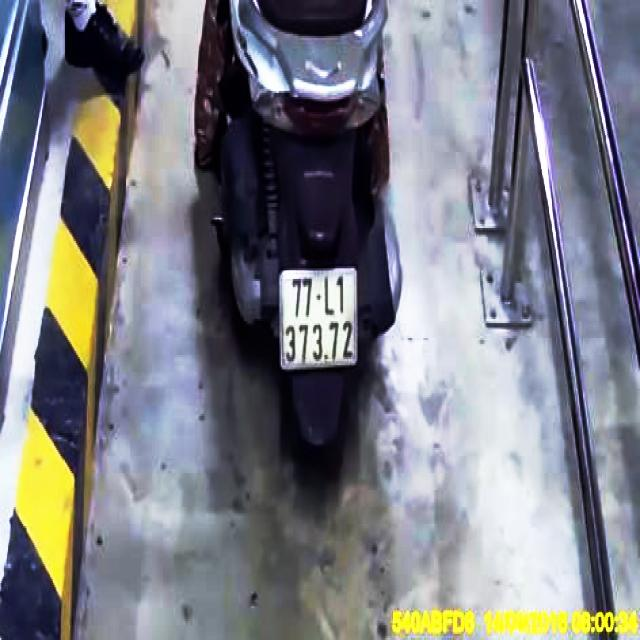license_plate: (280, 270, 359, 372)
